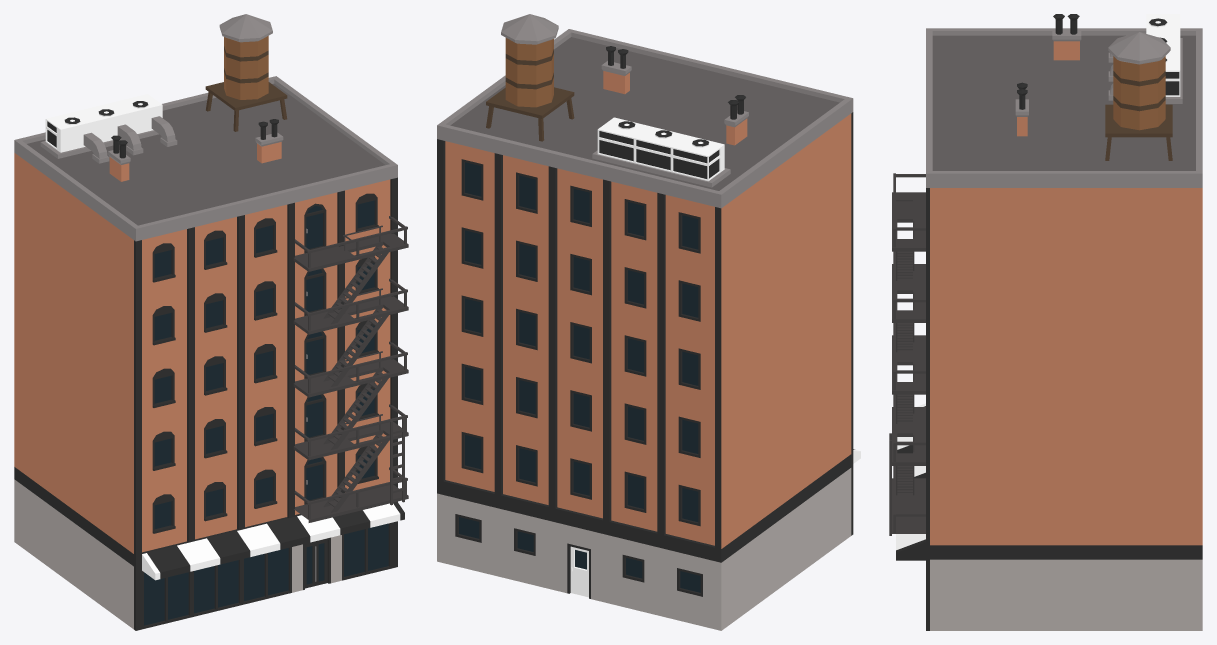
File: building-block-5floor-front.glb
3 views of the same model, side by side, from view 1: azimuth 30°, elevation 25°; view 2: azimuth 150°, elevation 25°; view 3: azimuth 270°, elevation 25° (orthographic). The views are drawn at different scales.
Visible parts, largest first — view 1: building-block-5floor-front; view 2: building-block-5floor-front; view 3: building-block-5floor-front.
Boxes of the visible parts, bbox=[...] form: building-block-5floor-front: bbox=[14, 14, 408, 630]; building-block-5floor-front: bbox=[437, 14, 860, 630]; building-block-5floor-front: bbox=[889, 14, 1202, 630].
Bounding box in the file's own units: 13.1 × 23.81 × 11.92.
1 material, 1 textured.
